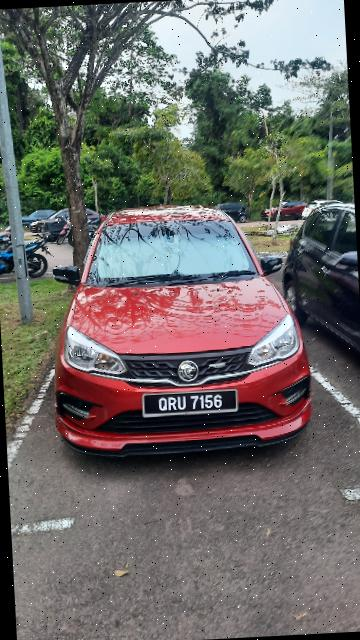License_Plate: (133, 386, 243, 424)
car: (25, 189, 318, 465)
